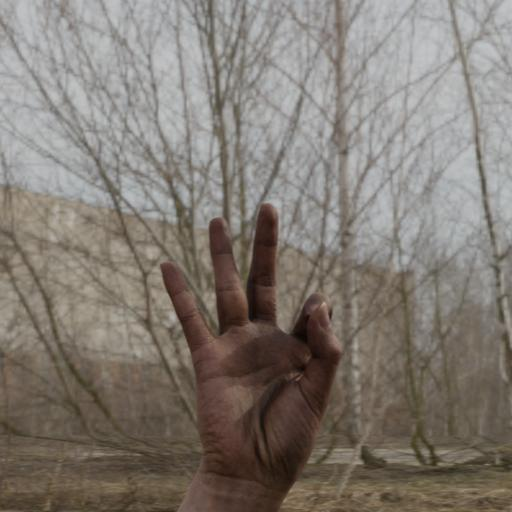F: (149, 194, 353, 482)
